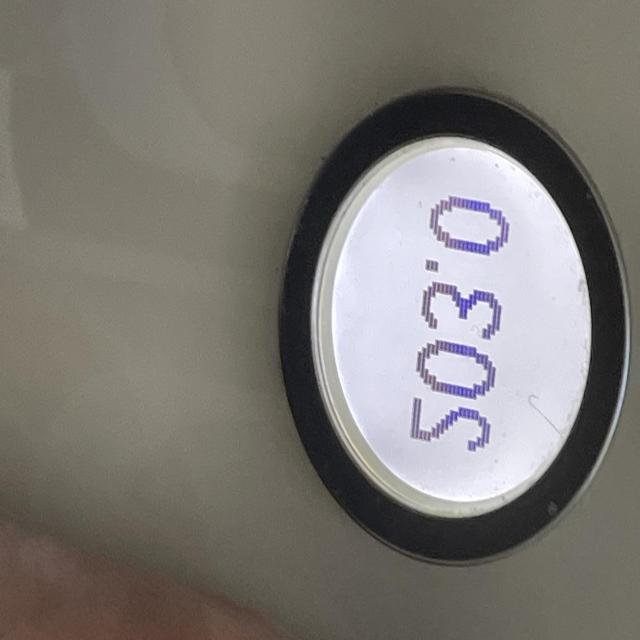ws: (278, 89, 632, 570)
